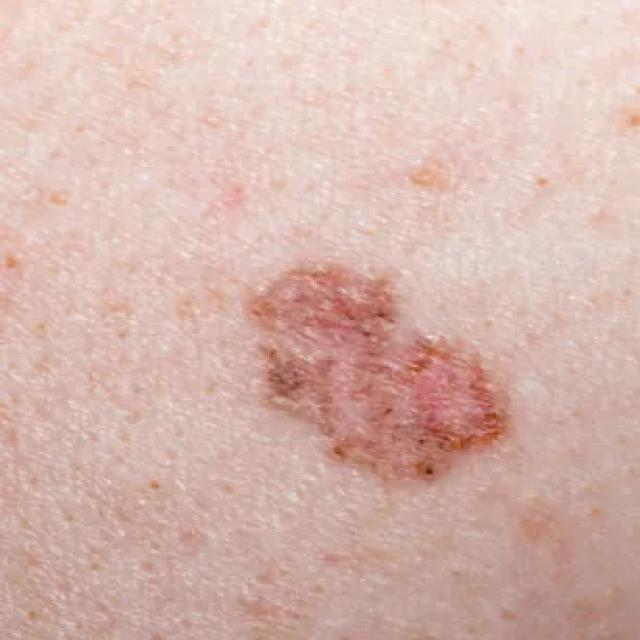Cancer: (242, 244, 519, 499)
